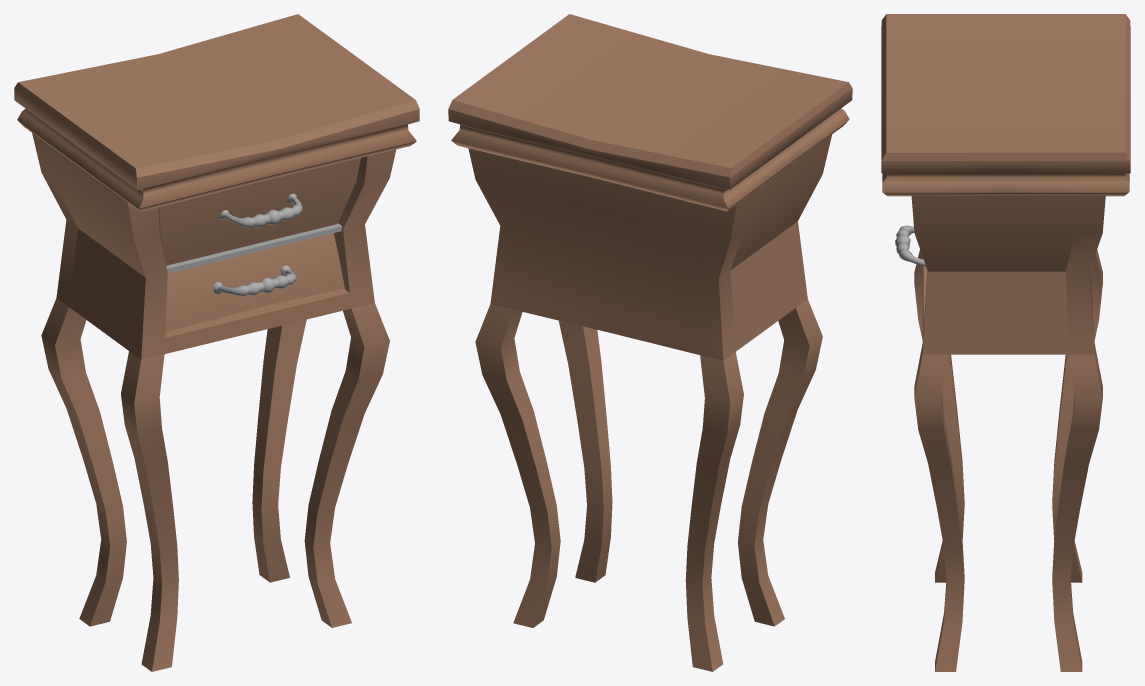
Rendered from Commode_03.fbx.
3 renders of one model, left to right at view 1: azimuth 30°, elevation 25°; view 2: azimuth 150°, elevation 25°; view 3: azimuth 270°, elevation 25°, orthographic.
Parts seen in each view (by area): view 1: SM_Poignée_Low_Poly_UV8; view 2: SM_Poignée_Low_Poly_UV8; view 3: SM_Poignée_Low_Poly_UV8.
Boxes of the visible parts, x1,y1,x2,y2 form: SM_Poignée_Low_Poly_UV8: (14, 14, 419, 671); SM_Poignée_Low_Poly_UV8: (448, 14, 852, 671); SM_Poignée_Low_Poly_UV8: (881, 14, 1130, 671).
Bounding box in the file's own units: 0.6113 × 1.1 × 0.459.
